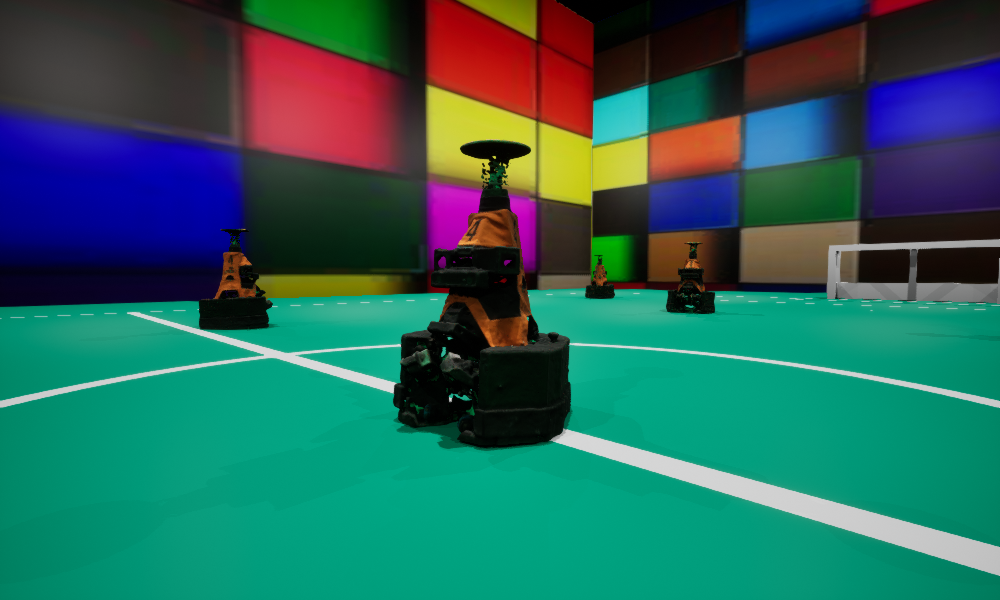o: (393, 139, 570, 444), (199, 229, 272, 329), (666, 242, 714, 312), (585, 255, 614, 298)
